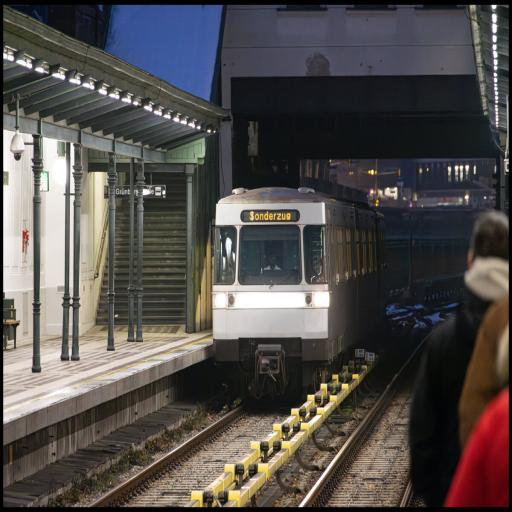Silberpfeil: (213, 181, 391, 380)
